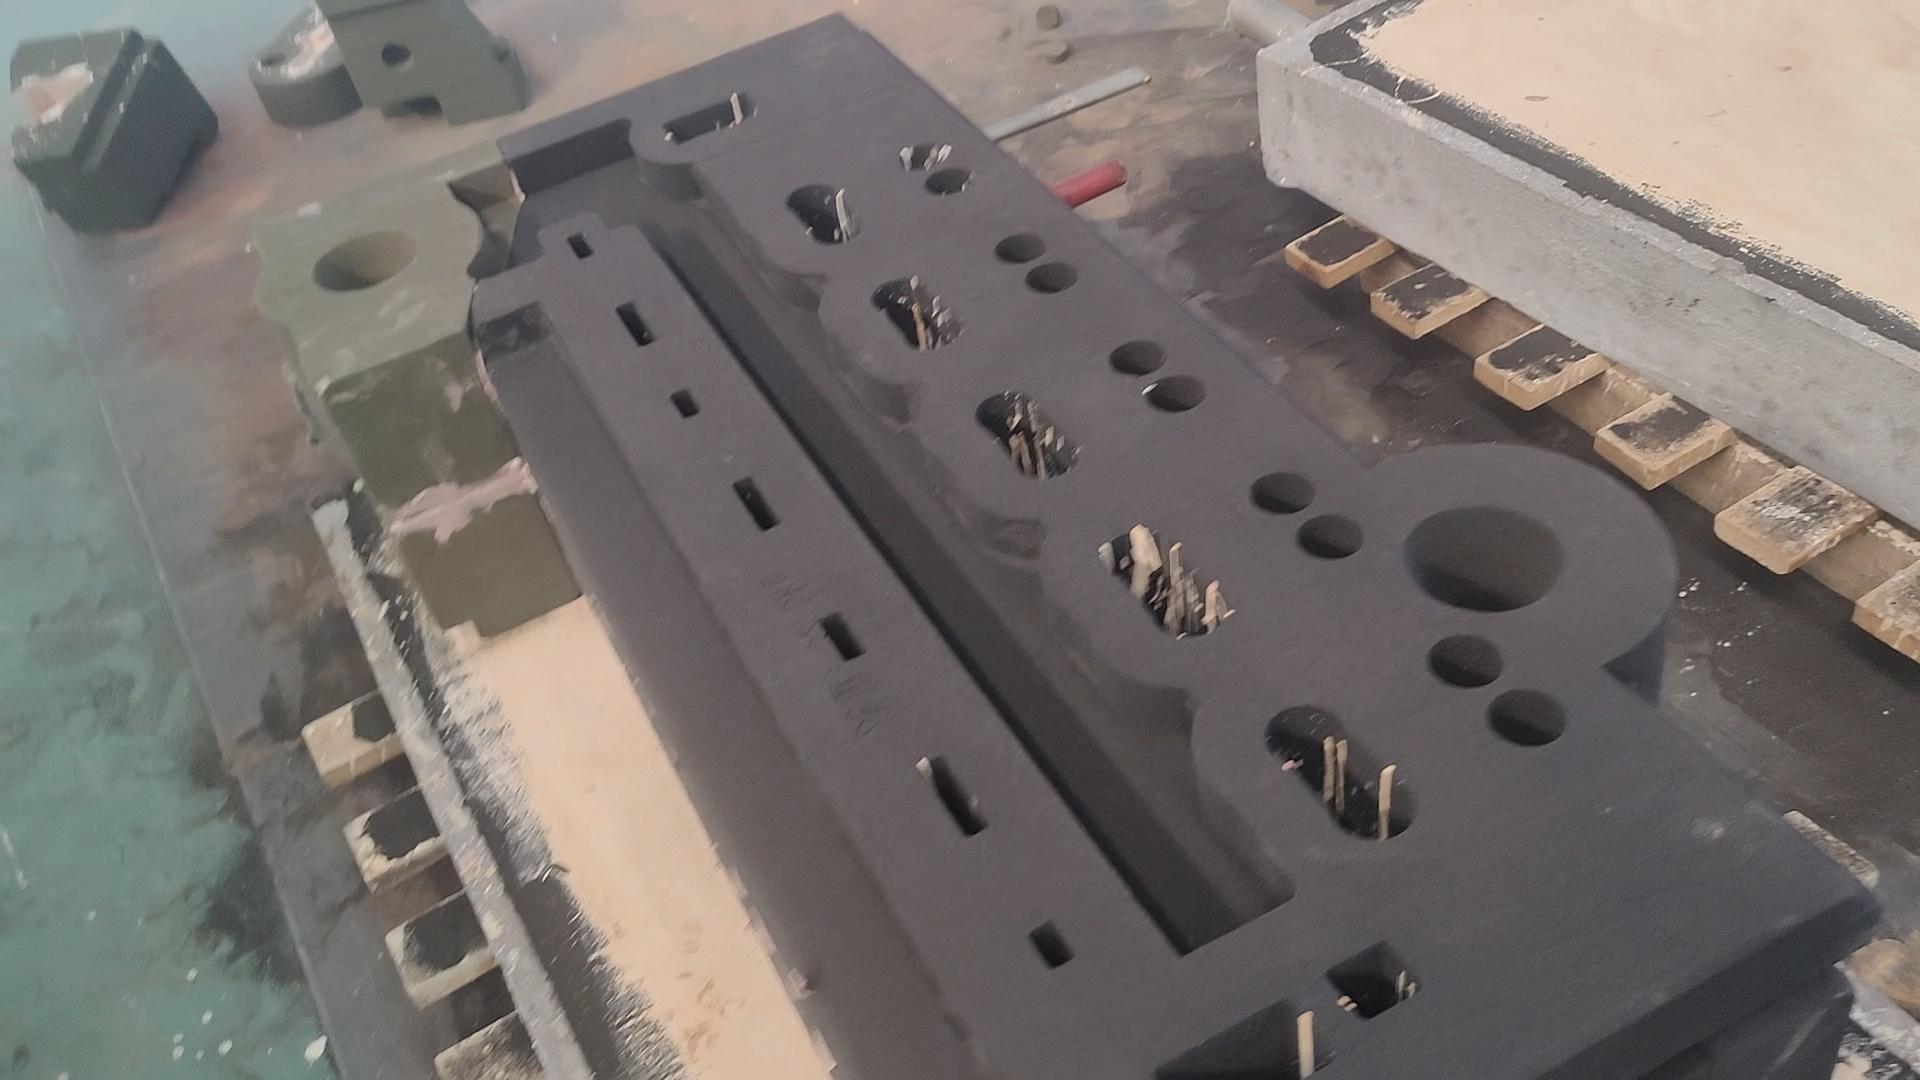pouring hole: (1400, 504, 1567, 615), (309, 229, 421, 291)
